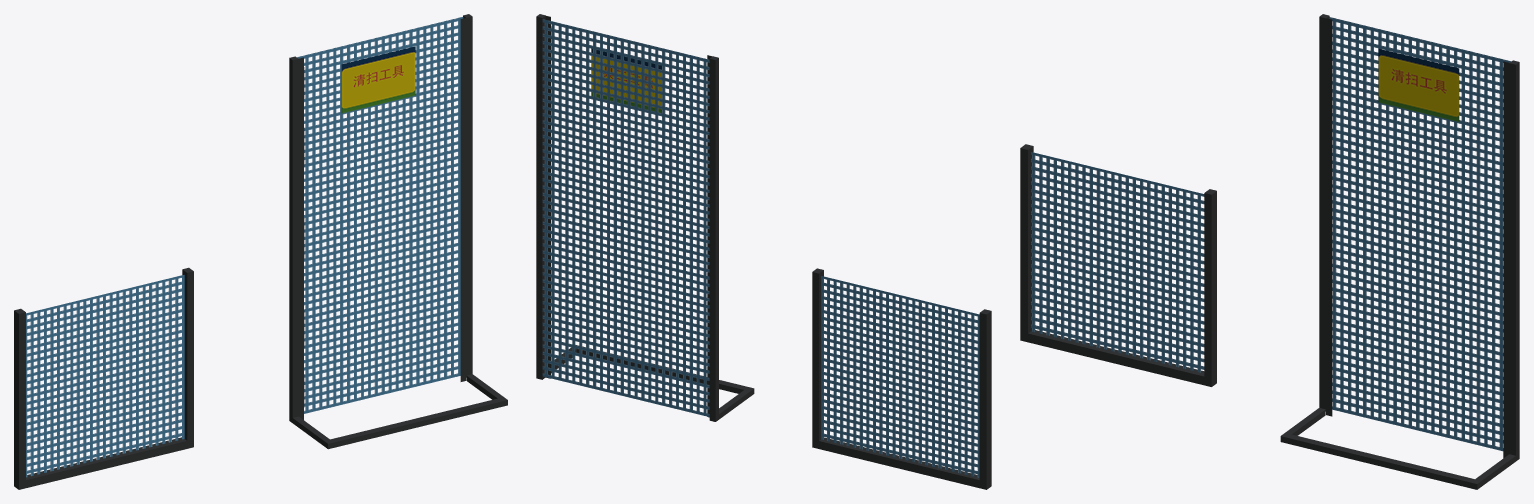
The model's file is YF_LS_LanBan.FBX.
3 renders of one model, left to right at view 1: azimuth 30°, elevation 25°; view 2: azimuth 150°, elevation 25°; view 3: azimuth 330°, elevation 25°, orthographic. The views are drawn at different scales.
Visible parts, largest first — view 1: YF_Model_LS_LanBan_02, YF_Model_LS_LanBan_01, YF_Model_LS_LanBan_JinShu_02, YF_Model_LS_LanBan_JinShu_01; view 2: YF_Model_LS_LanBan_02, YF_Model_LS_LanBan_01, YF_Model_LS_LanBan_JinShu_02, YF_Model_LS_LanBan_JinShu_01; view 3: YF_Model_LS_LanBan_02, YF_Model_LS_LanBan_01, YF_Model_LS_LanBan_JinShu_02, YF_Model_LS_LanBan_JinShu_01.
Part boxes in pixels (left/top/right/bottom): YF_Model_LS_LanBan_02: left=297, top=17, right=463, bottom=413; YF_Model_LS_LanBan_01: left=26, top=275, right=184, bottom=477; YF_Model_LS_LanBan_JinShu_02: left=289, top=14, right=507, bottom=449; YF_Model_LS_LanBan_JinShu_01: left=14, top=267, right=193, bottom=489; YF_Model_LS_LanBan_02: left=542, top=19, right=709, bottom=416; YF_Model_LS_LanBan_01: left=821, top=276, right=979, bottom=477; YF_Model_LS_LanBan_JinShu_02: left=536, top=14, right=754, bottom=421; YF_Model_LS_LanBan_JinShu_01: left=812, top=268, right=991, bottom=489; YF_Model_LS_LanBan_02: left=1329, top=17, right=1510, bottom=451; YF_Model_LS_LanBan_01: left=1031, top=152, right=1204, bottom=372; YF_Model_LS_LanBan_JinShu_02: left=1280, top=14, right=1519, bottom=489; YF_Model_LS_LanBan_JinShu_01: left=1020, top=144, right=1216, bottom=386.
Bounding box in the file's own units: 264 × 202 × 40.96.
2 materials, 2 textured.
